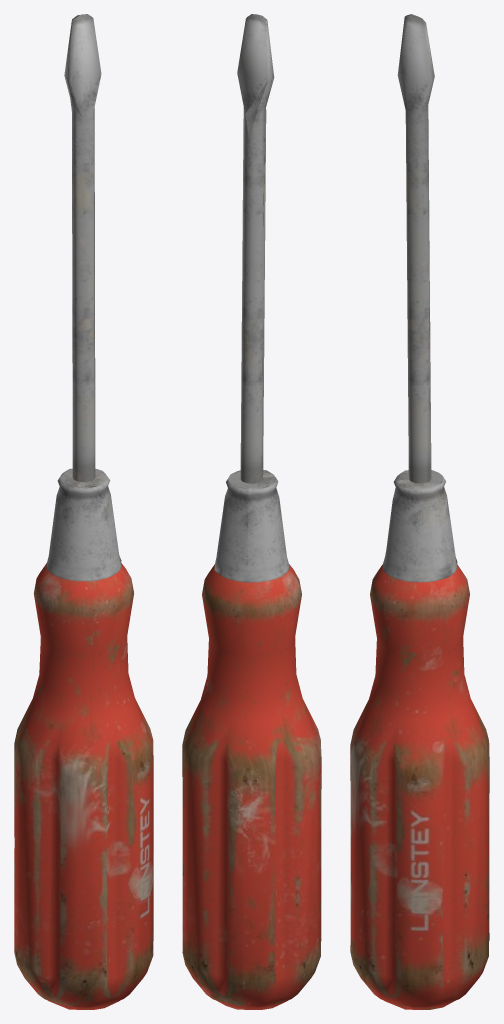
File: screwdriver.glb
3 views of the same model, side by side, from view 1: azimuth 30°, elevation 25°; view 2: azimuth 150°, elevation 25°; view 3: azimuth 330°, elevation 25° (orthographic).
Visible parts, largest first — view 1: screwdriver; view 2: screwdriver; view 3: screwdriver.
Boxes of the visible parts, x1,y1,x2,y2 form: screwdriver: (14, 14, 153, 1009); screwdriver: (182, 14, 321, 1009); screwdriver: (350, 14, 489, 1009).
Bounding box in the file's own units: 0.0275 × 0.2091 × 0.0267.
1 material, 1 textured.
